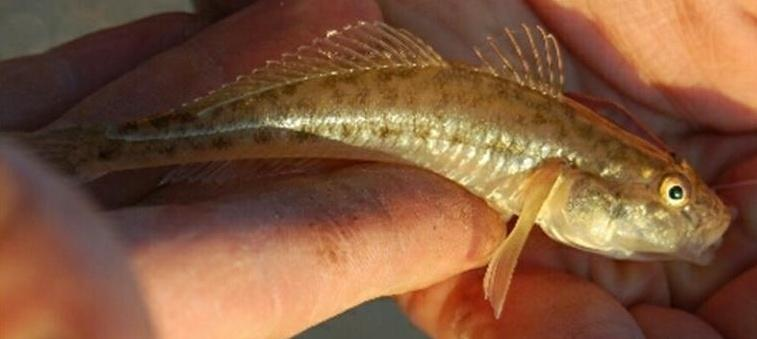Goby: (24, 17, 734, 322)
